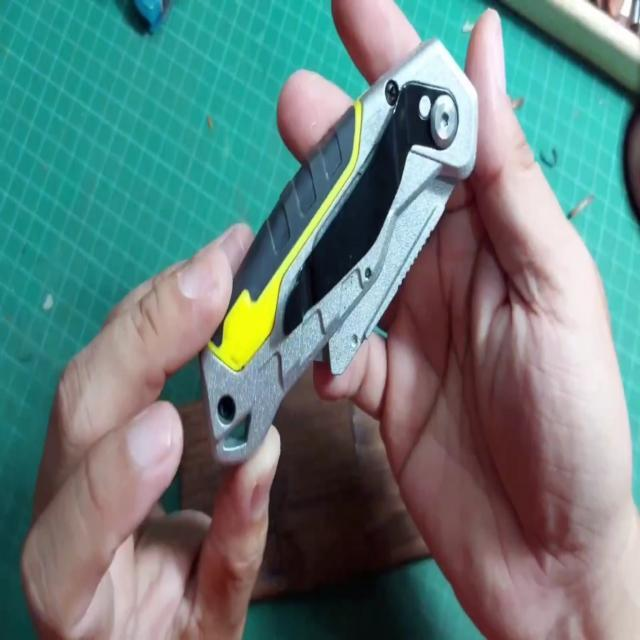cutter: (2, 0, 640, 640)
